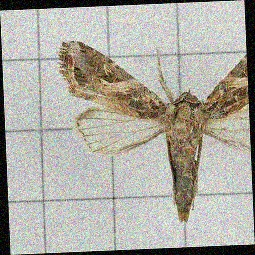Spodoptera litura: (60, 36, 250, 224)
